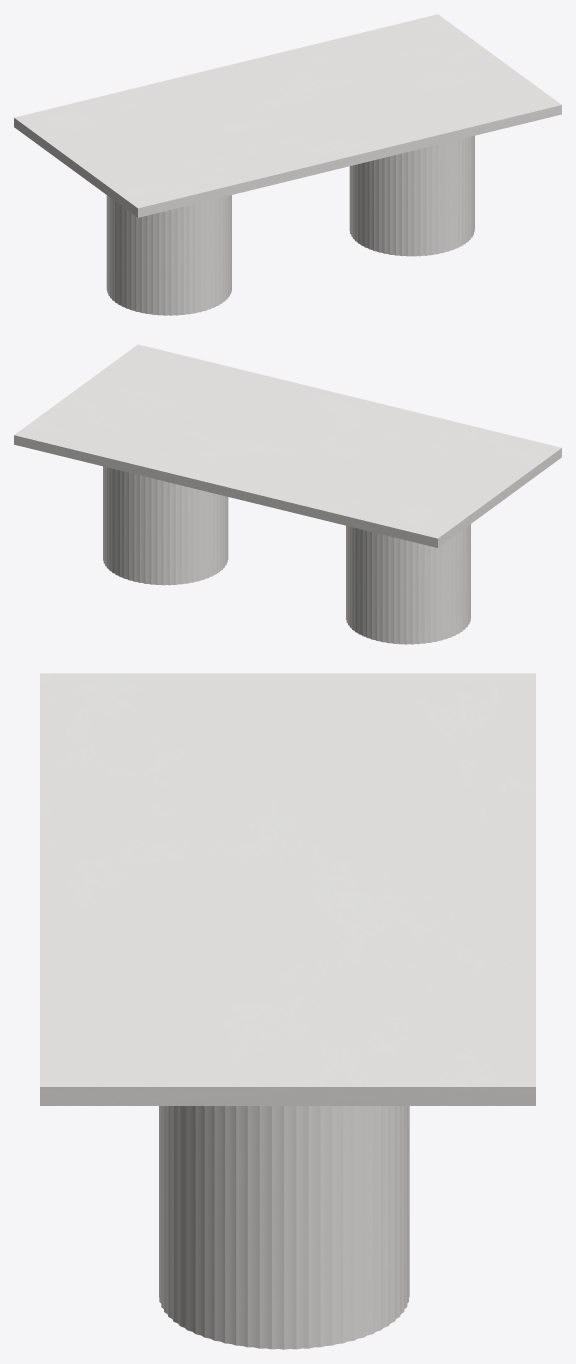
Rendered from purewhite_recta_standard_ripplesecond.glb.
3 views of the same model, one above another, from view 1: azimuth 30°, elevation 25°; view 2: azimuth 150°, elevation 25°; view 3: azimuth 270°, elevation 25° (orthographic). The views are drawn at different scales.
Parts seen in each view (by area): view 1: standard_recta, ripplesecond; view 2: standard_recta, ripplesecond; view 3: standard_recta, ripplesecond.
Boxes of the visible parts, x1,y1,x2,y2 form: standard_recta: [14, 14, 561, 217]; ripplesecond: [106, 135, 474, 315]; standard_recta: [14, 344, 561, 547]; ripplesecond: [103, 466, 470, 644]; standard_recta: [40, 673, 535, 1105]; ripplesecond: [159, 1106, 409, 1349].
Size of the model in its own units: 7.5 by 2.5 by 3.8.
1 material, 1 textured.
